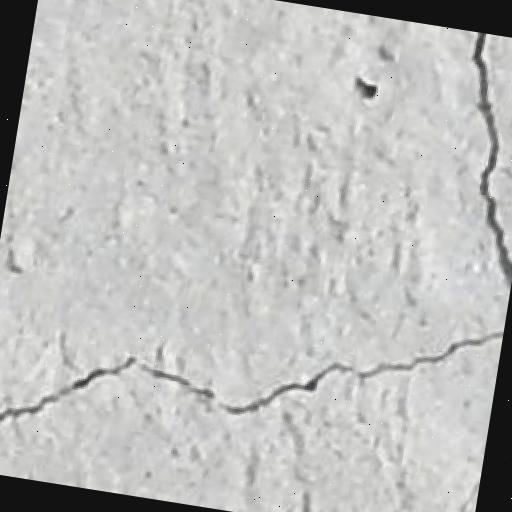spalling: (0, 307, 498, 428), (457, 37, 512, 284)
